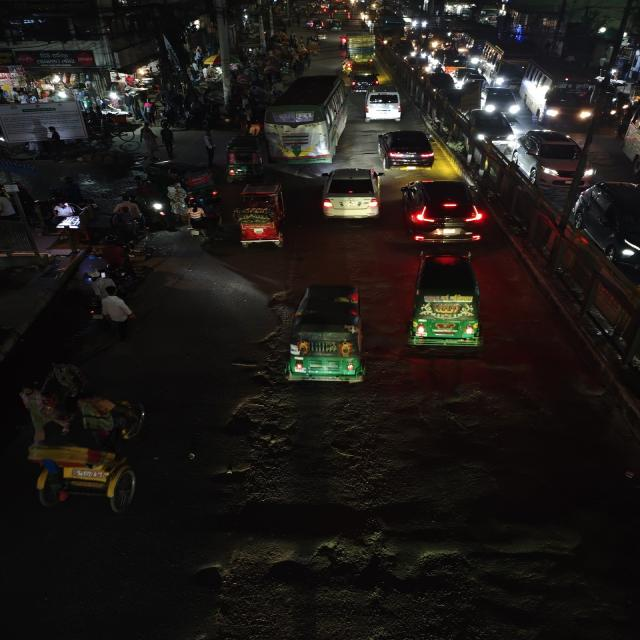bus: (264, 73, 350, 163), (520, 57, 603, 126), (480, 41, 529, 87)
car: (570, 176, 640, 282), (396, 176, 486, 244), (510, 128, 588, 188), (316, 166, 385, 223), (452, 107, 518, 147), (376, 127, 437, 169), (360, 83, 404, 124), (482, 85, 522, 117), (426, 70, 458, 95), (349, 69, 379, 91)
cng: (277, 281, 370, 389), (401, 250, 488, 356), (148, 158, 218, 202), (223, 135, 265, 178), (328, 19, 342, 32)
motorcycle: (340, 57, 354, 75)
pedestrian: (100, 286, 136, 340), (139, 123, 164, 155)
rickshaw: (12, 380, 166, 520), (227, 180, 292, 250), (178, 206, 221, 245)
truck: (345, 32, 378, 64)
